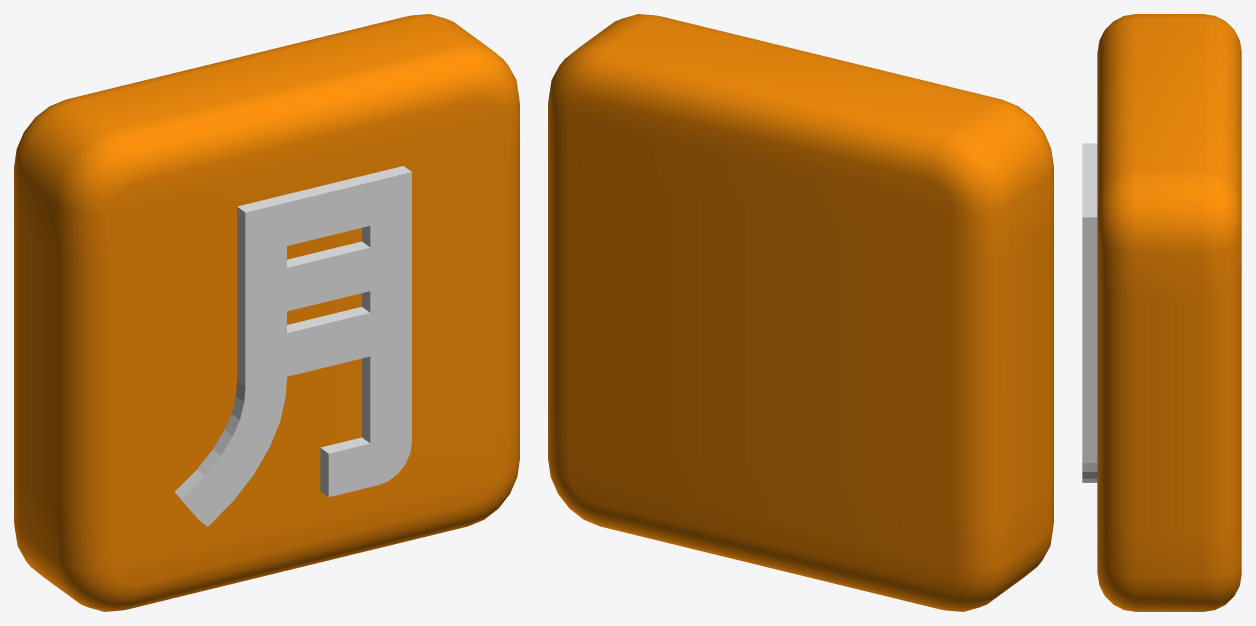
Rendered from japanese_monthly_amount_button.gltf.
3 renders of one model, left to right at view 1: azimuth 30°, elevation 25°; view 2: azimuth 150°, elevation 25°; view 3: azimuth 270°, elevation 25°, orthographic. The views are drawn at different scales.
Parts seen in each view (by area): view 1: Cube.6651, Plane.365; view 2: Cube.6651; view 3: Cube.6651, Plane.365.
Part boxes in pixels (<box>): Cube.6651: <box>14,14,519,611</box>; Plane.365: <box>175,166,411,526</box>; Cube.6651: <box>548,14,1053,611</box>; Cube.6651: <box>1097,14,1241,611</box>; Plane.365: <box>1082,143,1097,482</box>.
Size of the model in its own units: 2.2 by 2.2 by 0.73.
Materials: 1 (1 with a texture image).
